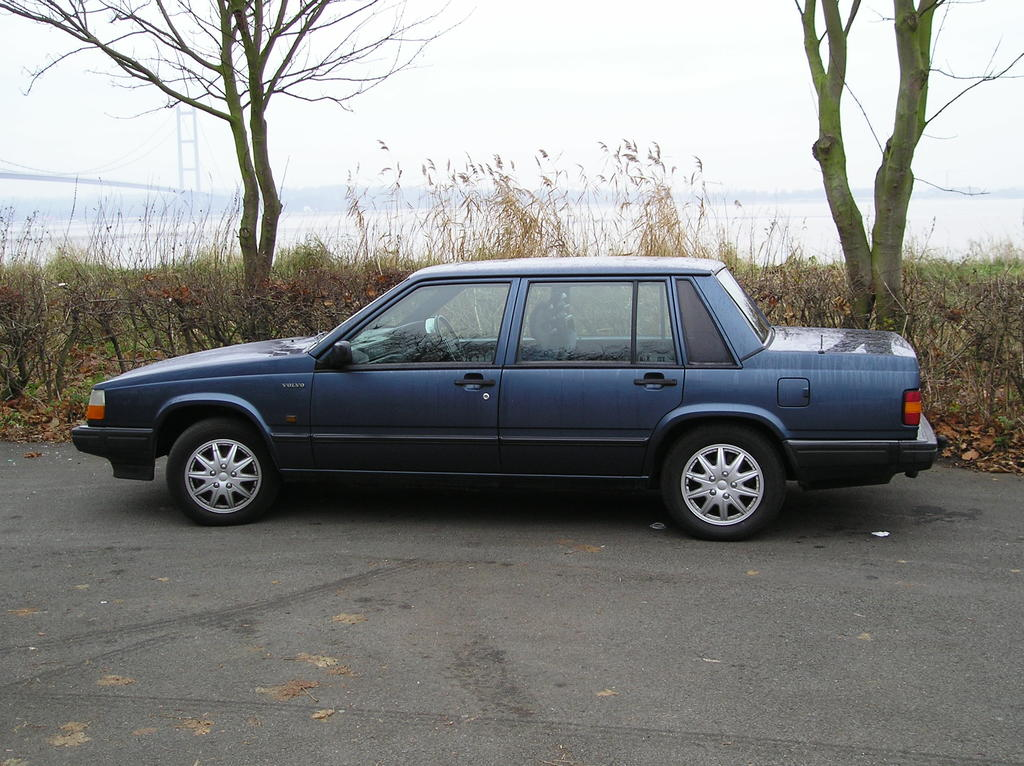Car: (70, 256, 933, 542)
